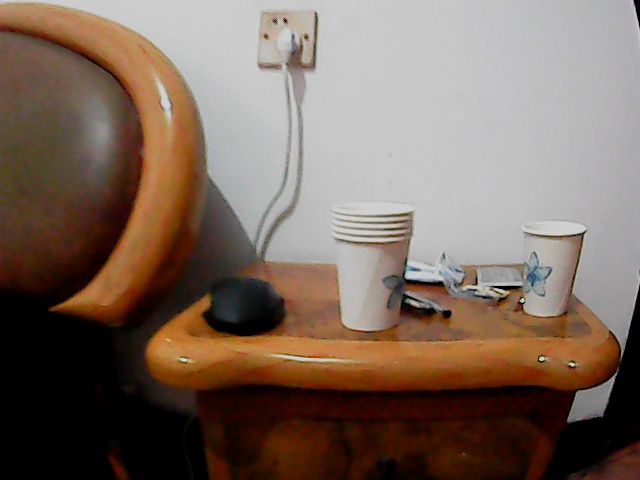cup: (327, 198, 414, 336)
mouse: (198, 278, 293, 335)
